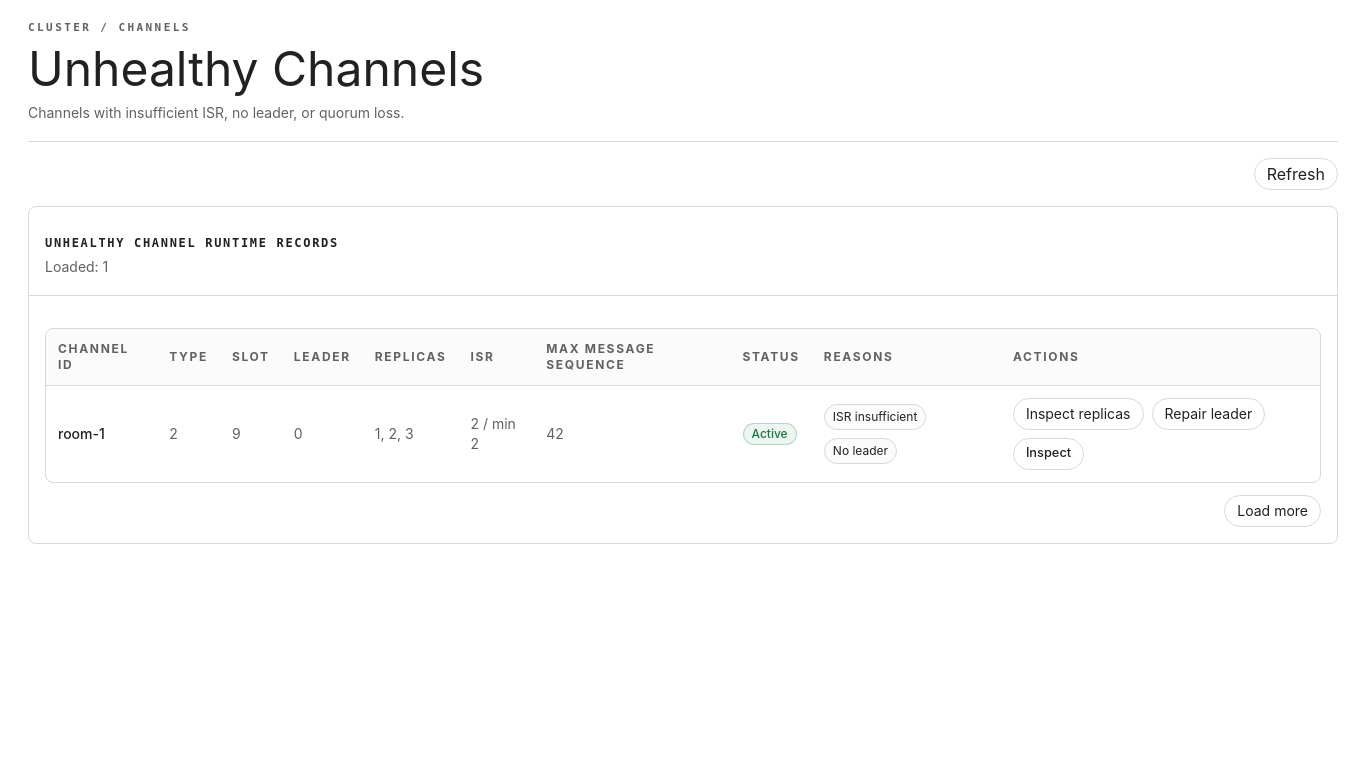
refresh clears pagination and reloads the first unhealthy page
Expected: the text "room-1" is shown, [46,385,157,482]
Click the button "Refresh": [1296, 174] box [1254,158,1338,190]
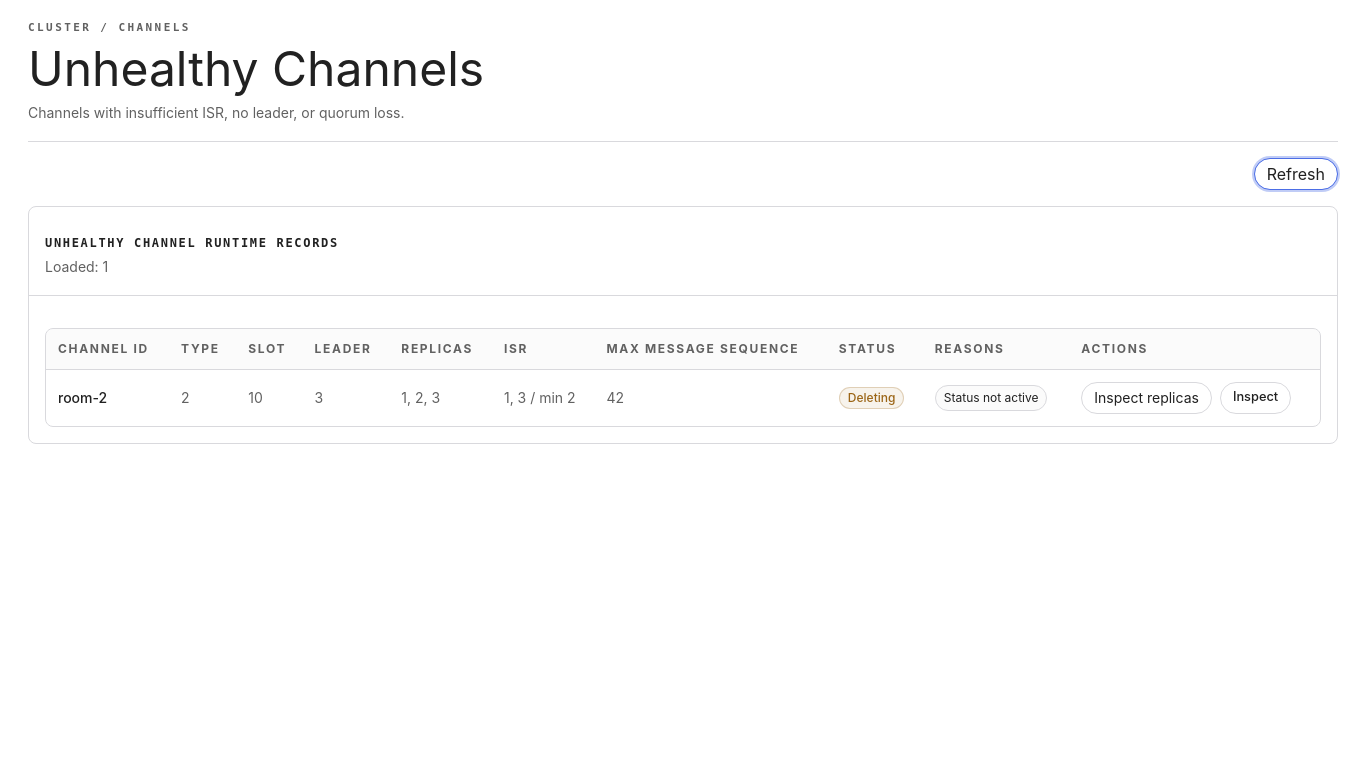
Expected: the text "room-2" is shown, [46,369,169,426]
Expected: the text "room-1" is gone
